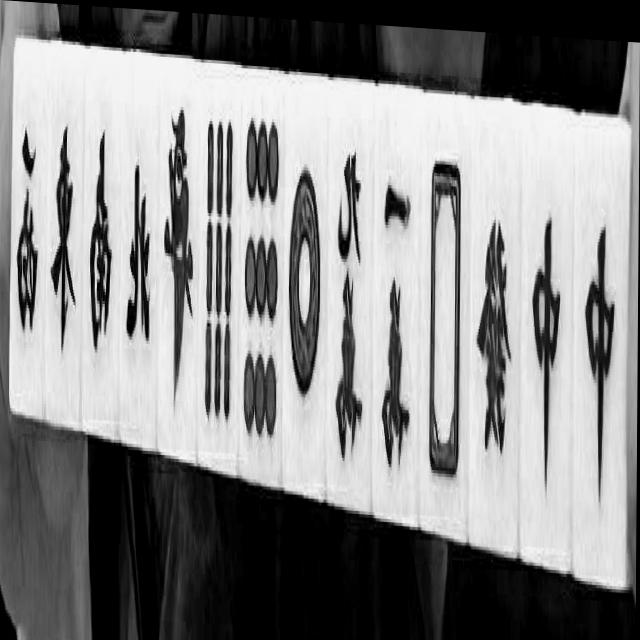1B: (160, 74, 199, 449)
1C: (372, 103, 418, 514)
1D: (284, 82, 331, 485)
9B: (199, 79, 242, 452)
9C: (329, 98, 373, 502)
9D: (241, 80, 285, 472)
EW: (45, 50, 81, 414)
GD: (470, 122, 520, 539)
NW: (120, 65, 160, 439)
RD: (575, 139, 629, 570), (522, 139, 573, 550)
SW: (82, 59, 120, 424)
WD: (420, 110, 468, 521)
WW: (10, 48, 46, 408)
